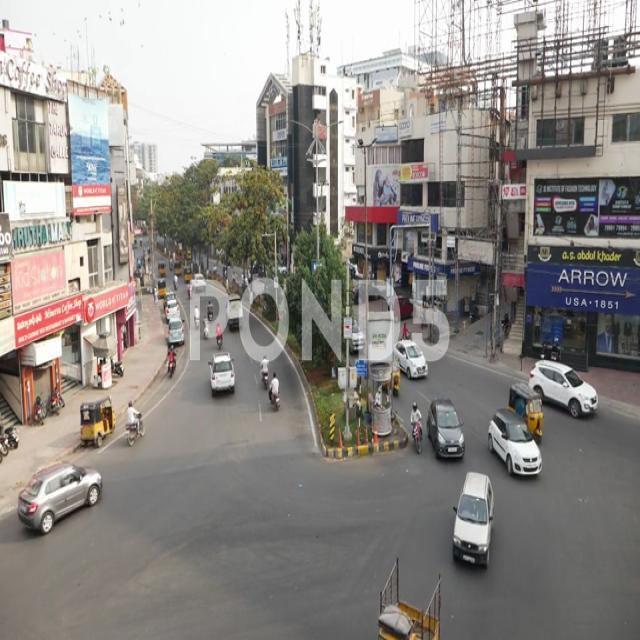car: (18, 455, 106, 542), (484, 401, 547, 499), (448, 476, 497, 570), (544, 359, 598, 424), (426, 402, 466, 465), (210, 350, 236, 400), (398, 342, 430, 380)
motorbike: (126, 399, 146, 450), (269, 368, 282, 413), (166, 346, 177, 378)
rikshaw: (508, 377, 546, 439), (80, 396, 117, 450)
